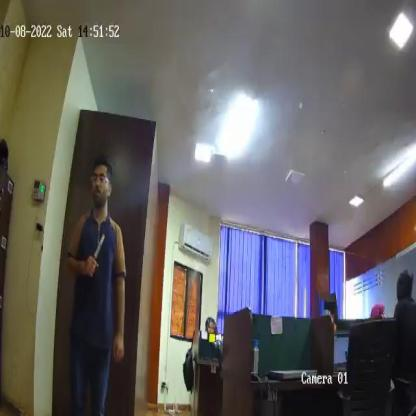Knife: (89, 230, 106, 278)
